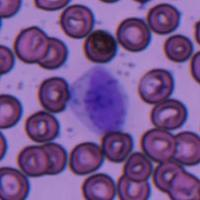M: (73, 65, 130, 134)
